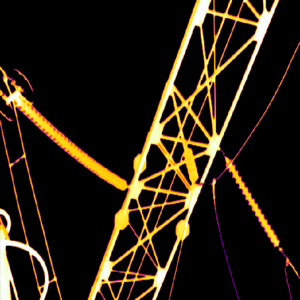insulator: (15, 93, 127, 190), (225, 156, 278, 246)
